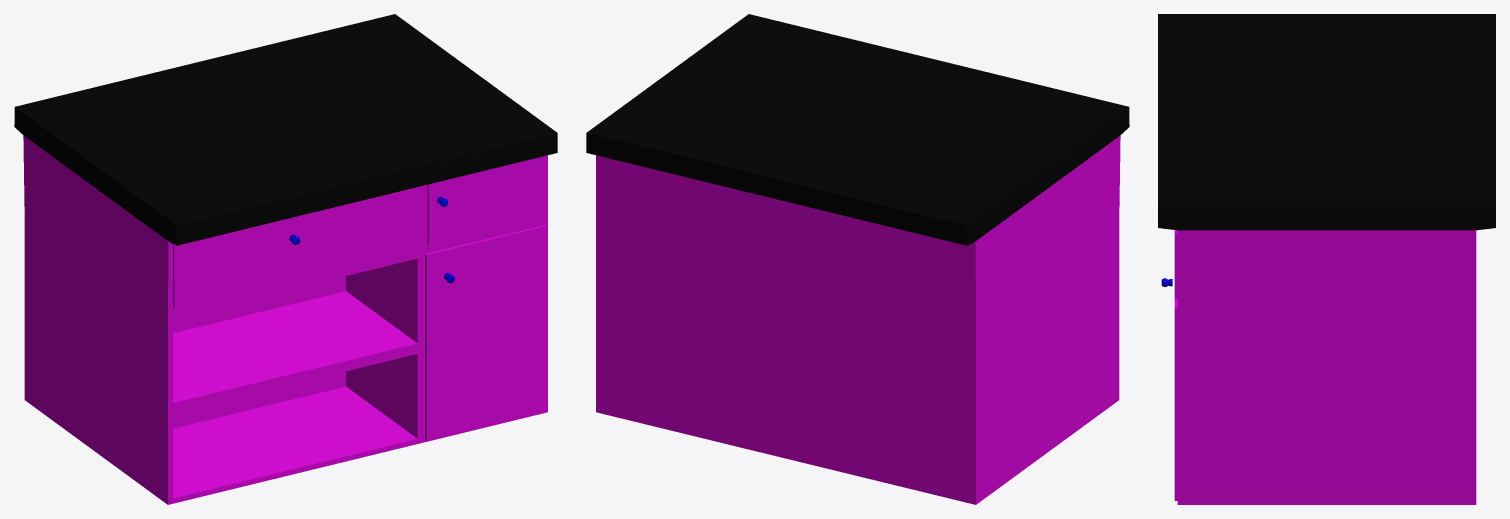
Rendered from comoda_05.fbx.
3 views of the same model, side by side, from view 1: azimuth 30°, elevation 25°; view 2: azimuth 150°, elevation 25°; view 3: azimuth 270°, elevation 25° (orthographic). The views are drawn at different scales.
Parts seen in each view (by area): view 1: pCube6; view 2: pCube6; view 3: pCube6.
Boxes of the visible parts, box(x1,y1,x2,y2) form: pCube6: box(14, 14, 557, 504); pCube6: box(586, 14, 1129, 504); pCube6: box(1158, 14, 1495, 504).
Bounding box in the file's own units: 3.07 × 2.21 × 2.27.
